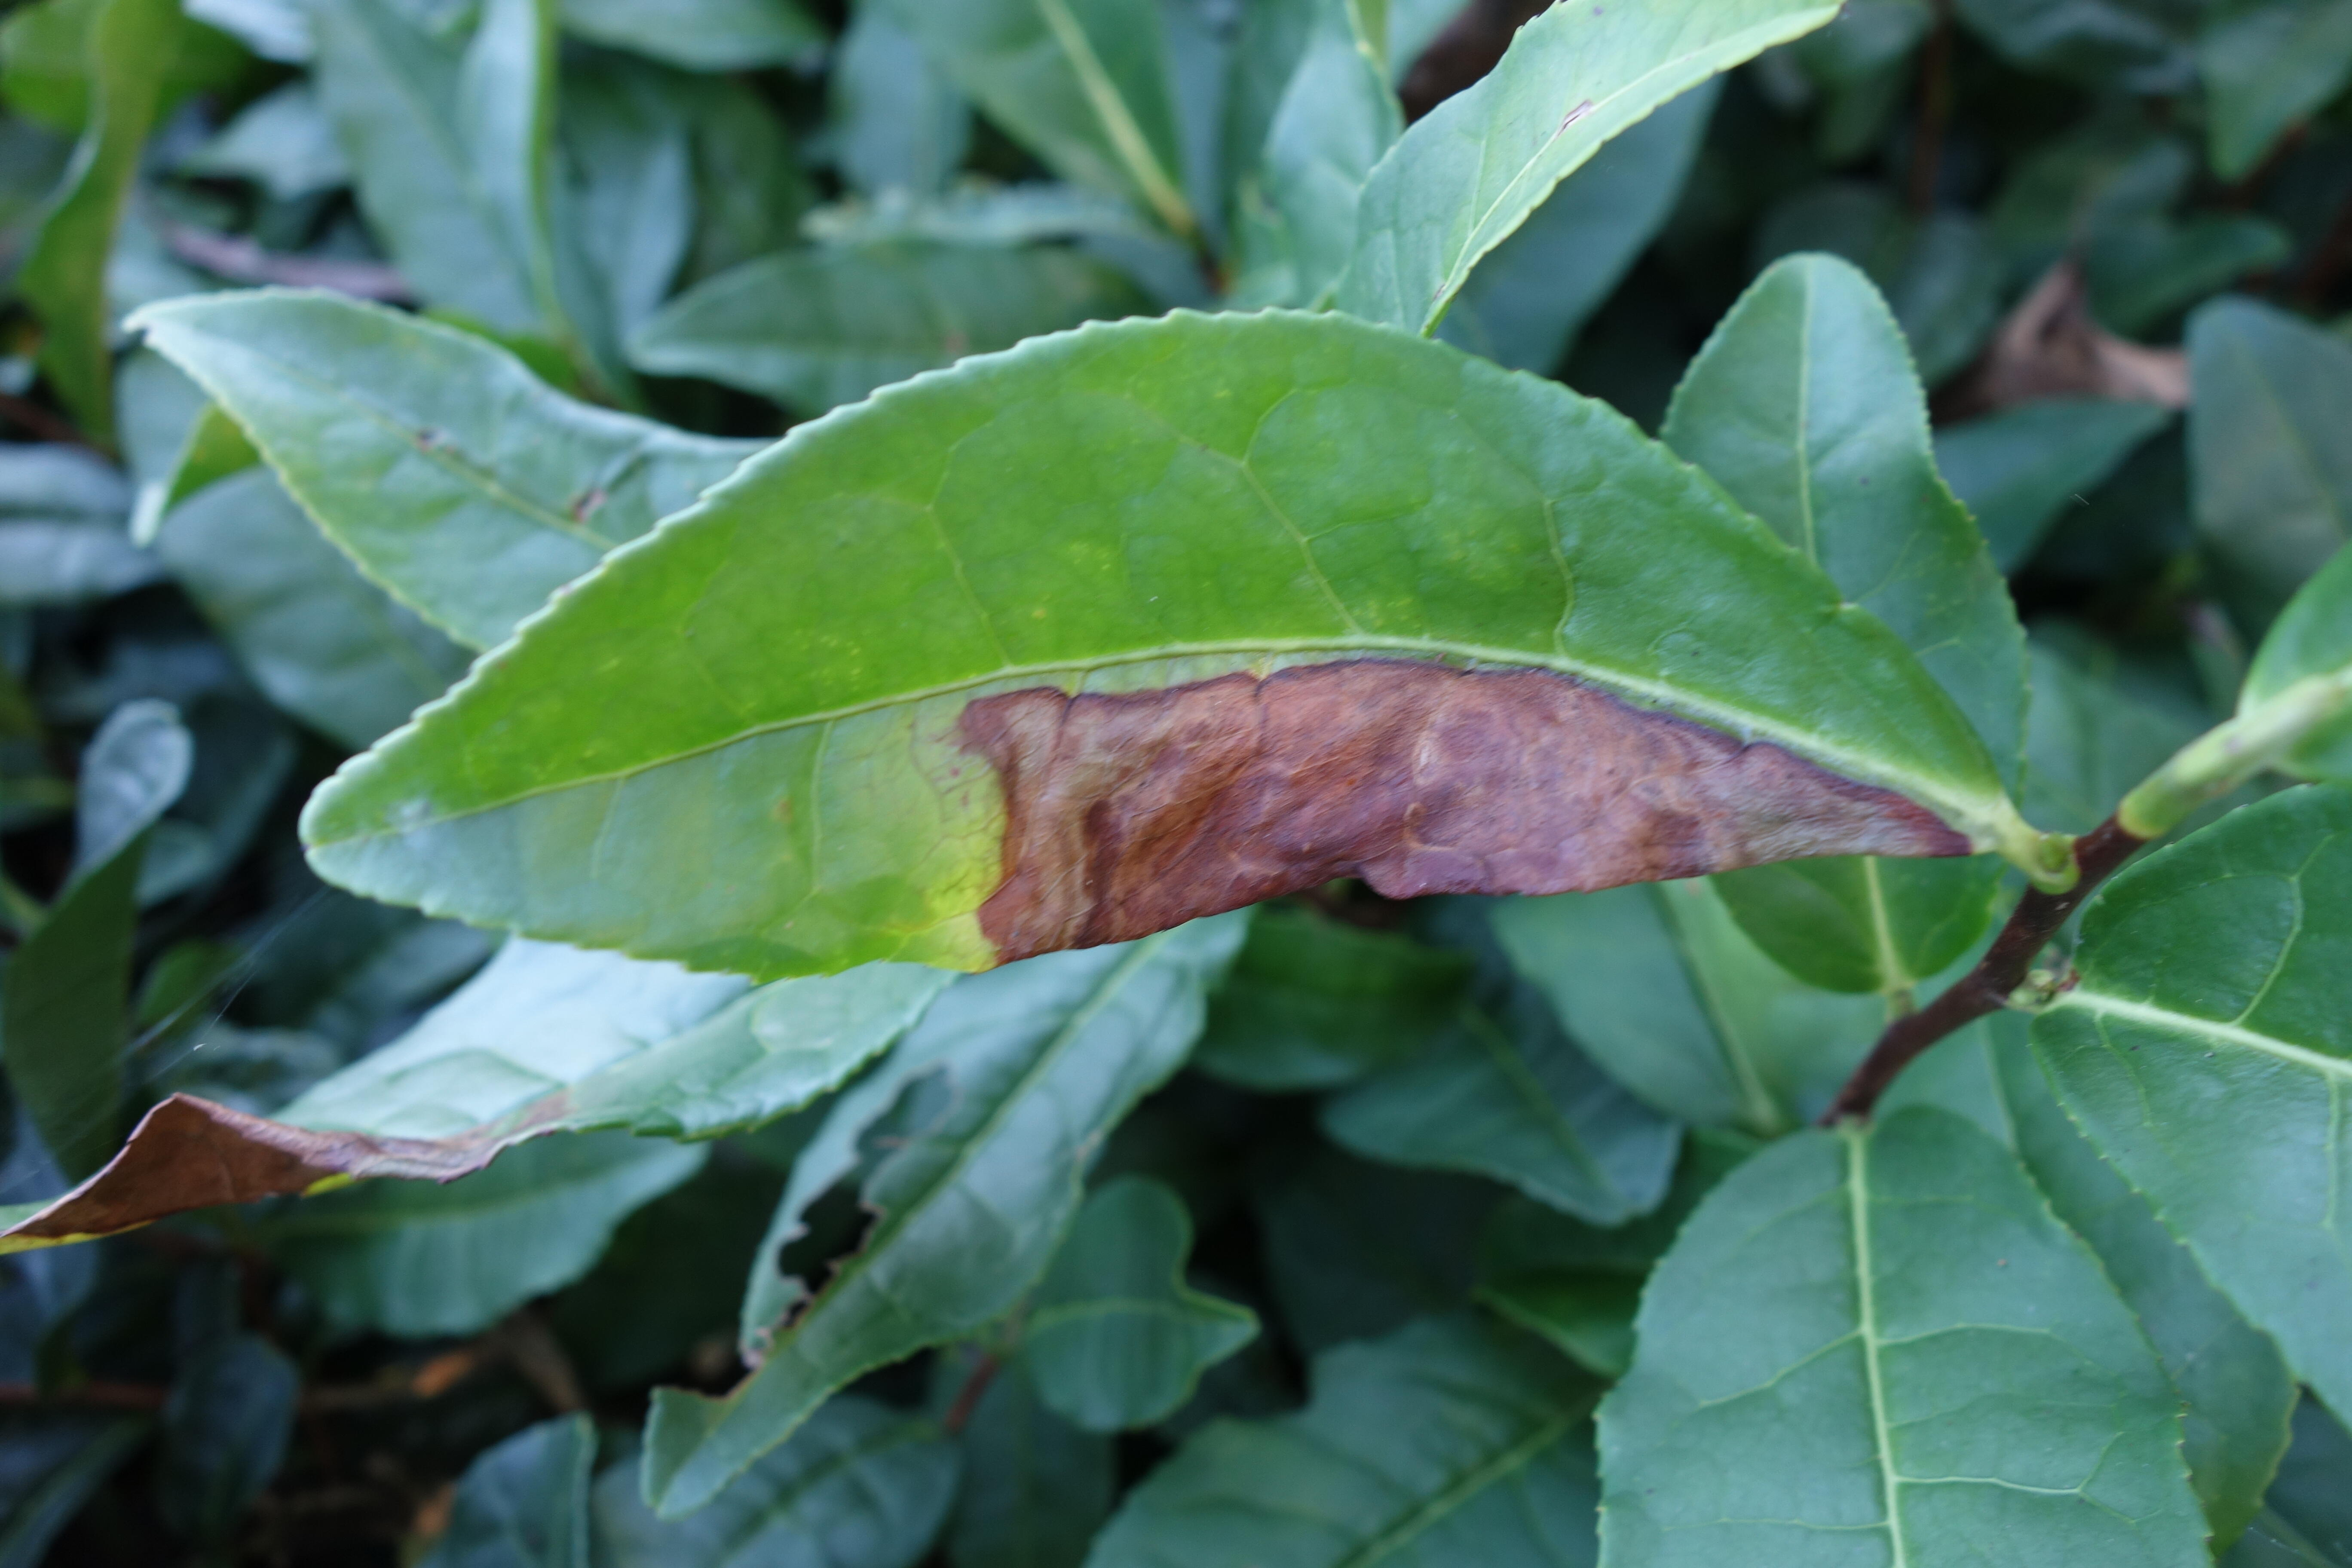healthy: (1587, 1106, 2221, 1561)
tanju_high: (294, 304, 2030, 987)
